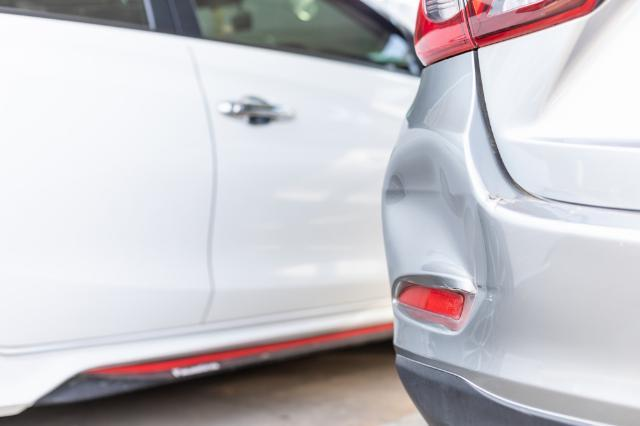dent: (384, 139, 494, 293)
